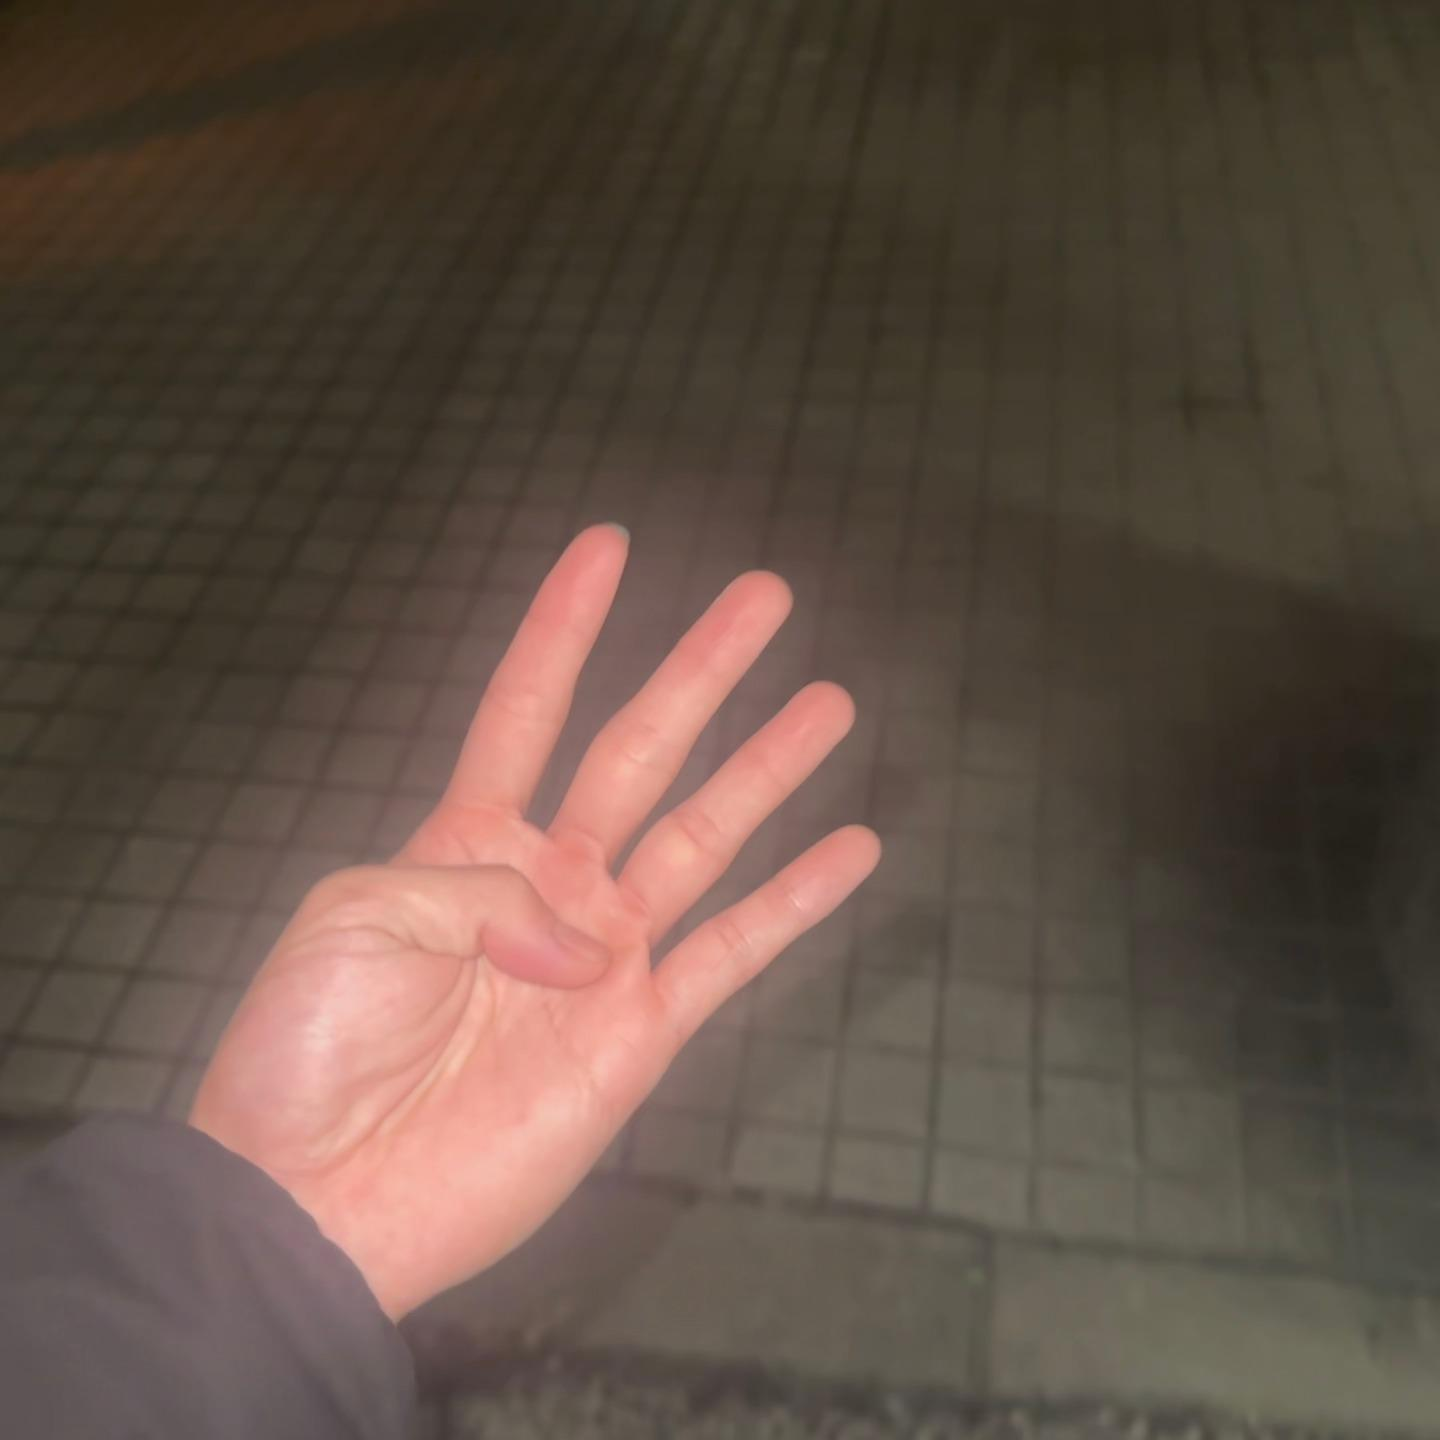without_gloves: (228, 435, 1123, 1251)
